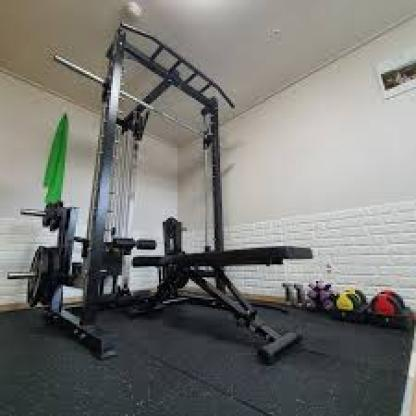smith machine: (55, 22, 313, 364)
